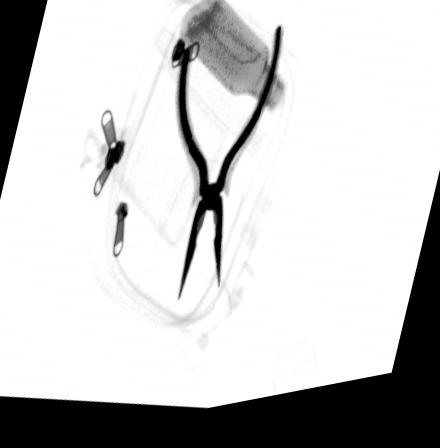Pliers: (174, 33, 283, 309)
